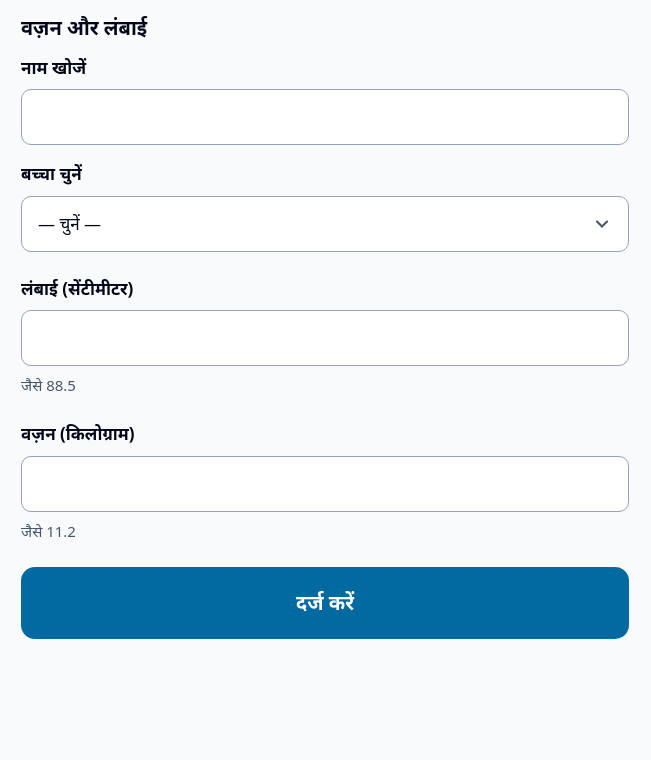
it: Growth screen › surfaces an implausible reading as 'measure again'
Select "कमला डामोर — 3साल" in the dropdown labelled "बच्चा चुनें" at {"x": 325, "y": 224}, box x1=21 y1=196 x2=629 y2=252
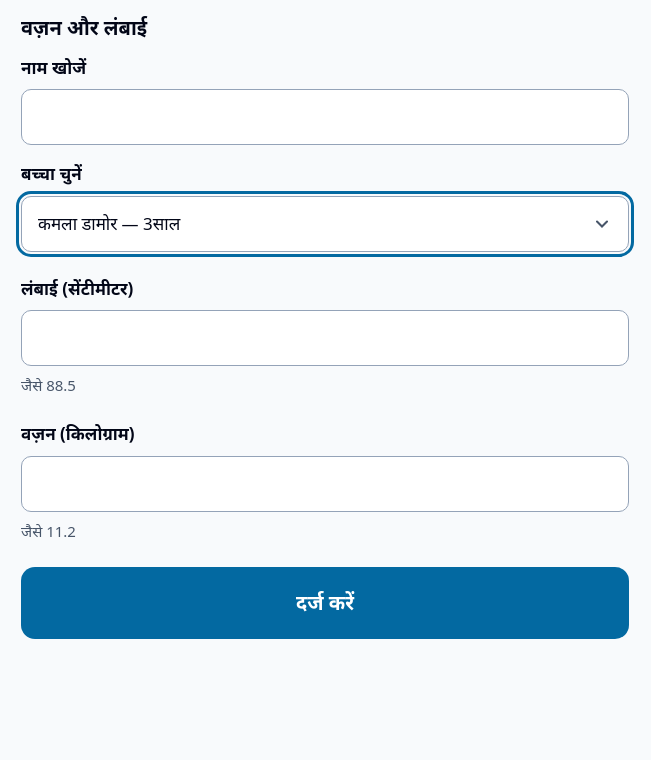
Type "188" into the field labelled "लंबाई (सेंटीमीटर)" at {"x": 325, "y": 338}, box x1=21 y1=310 x2=629 y2=366
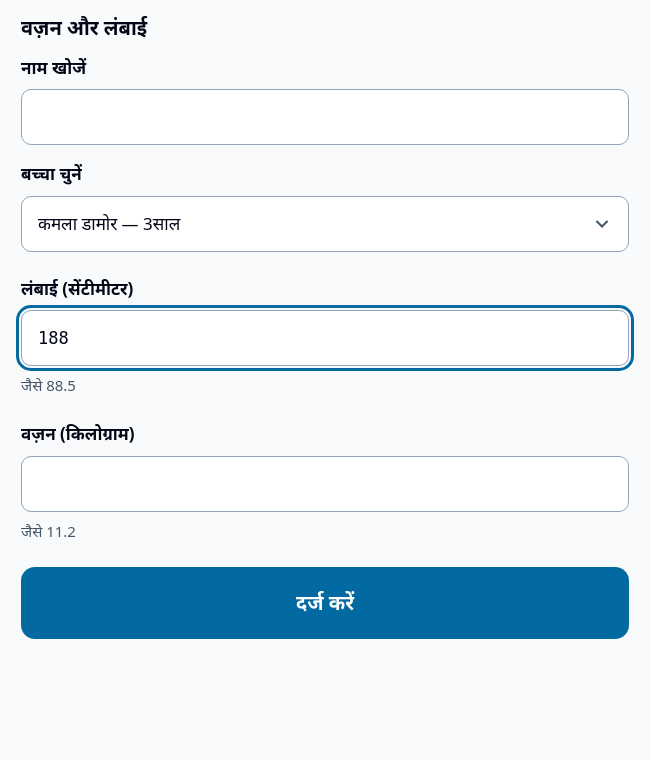
Type "11" into the field labelled "वज़न (किलोग्राम)" at {"x": 325, "y": 484}, box x1=21 y1=456 x2=629 y2=512
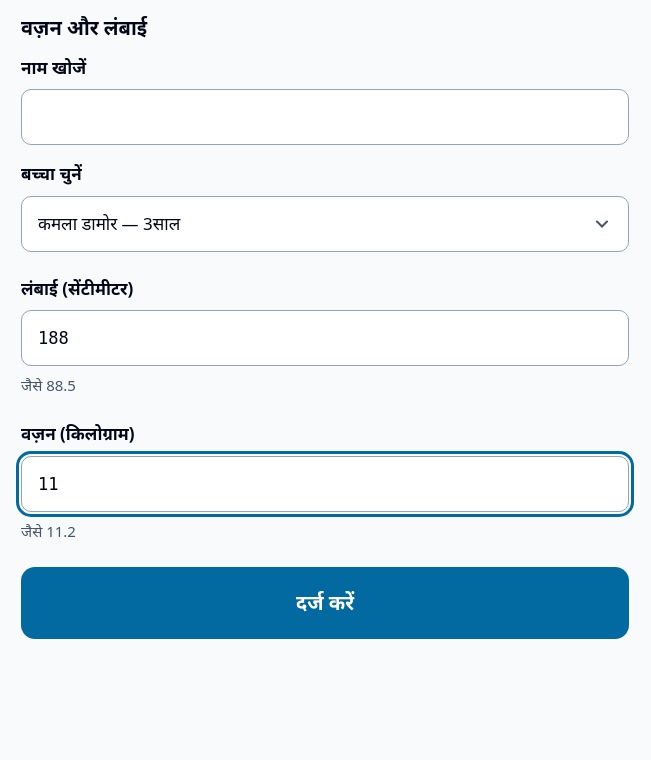
Click the button "दर्ज करें" at {"x": 325, "y": 603}, box x1=21 y1=567 x2=629 y2=639
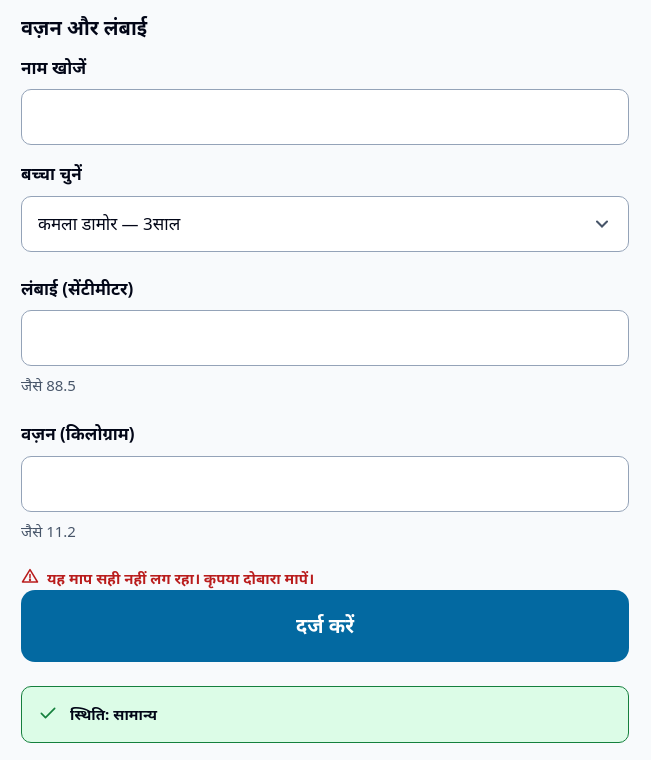
Expected: the message "यह माप सही नहीं लग रहा। कृपया दोबारा मापें।" is shown, x1=21 y1=567 x2=314 y2=588
